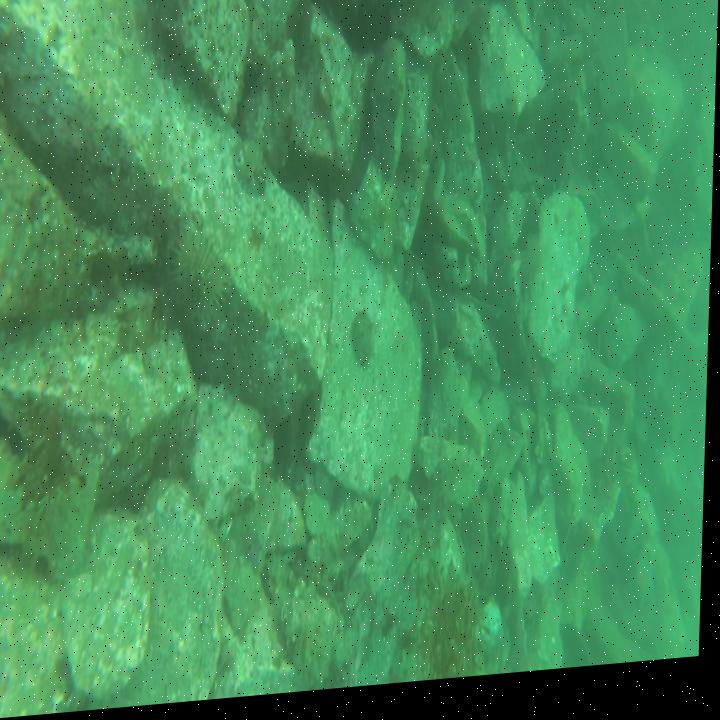echinus: (161, 221, 235, 336)
